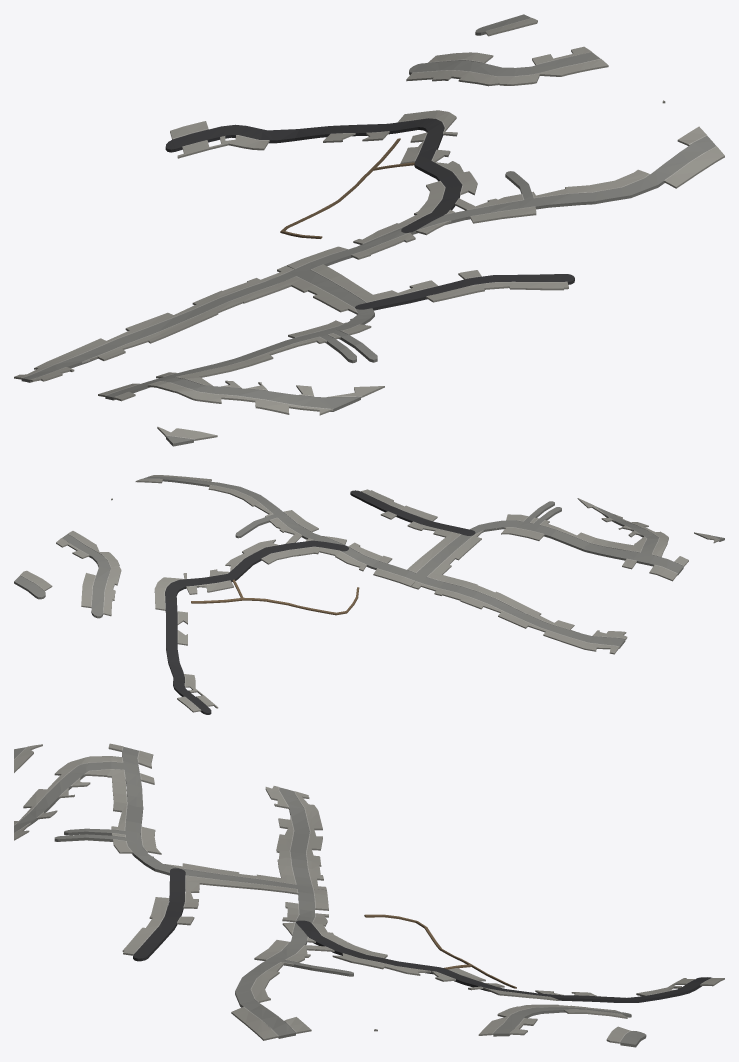
3 renders of one model, top to bottom at view 1: azimuth 30°, elevation 25°; view 2: azimuth 150°, elevation 25°; view 3: azimuth 270°, elevation 25°, orthographic. The views are drawn at different scales.
Size of the model in its own units: 293 by 41.86 by 284.
